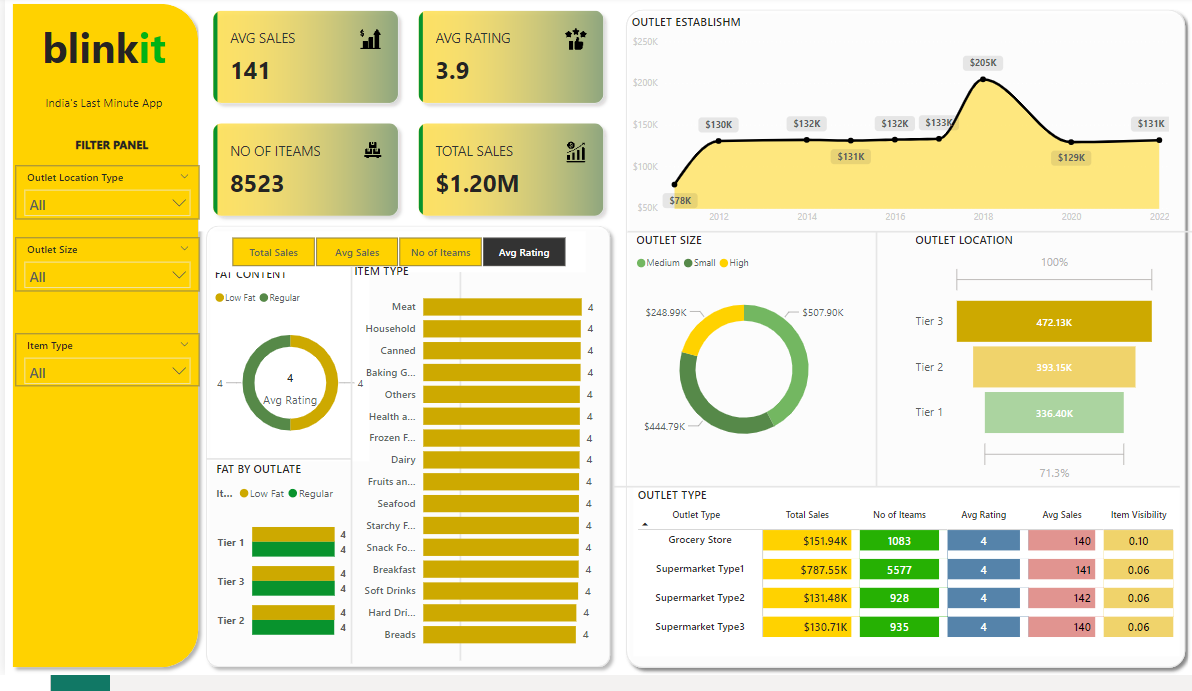

Layout of this report page (visuals, bound fields, positions):
{"tool":"powerbi","page":{"name":"Page 1","canvas":[1400,800],"ordinal":0},"visuals":[{"type":"shape","box":[0,0,236.7,800],"z":0},{"type":"textbox","box":[31.8,21.2,169.7,90.1],"z":1000},{"type":"textbox","box":[31.8,111.3,169.7,49.5],"z":2000},{"type":"cardVisual","fields":{"Data":["BlinkIT Grocery Data.Avg Sales","BlinkIT Grocery Data.Avg Rating","BlinkIT Grocery Data.No of Iteams","BlinkIT Grocery Data.Total Sales"]},"box":[228,0,494.9,277.5],"z":3000},{"type":"shape","box":[228,262,494,538],"z":4000},{"type":"donutChart","title":"FAT CONTENT","fields":{"Y":["BlinkIT Grocery Data.Avg Rating"],"Category":["BlinkIT Grocery Data.Item Fat Content"]},"box":[242.1,318.1,187.3,229.8],"z":5000},{"type":"slicer","fields":{"Values":["Metrics.Metrics"]},"box":[242.1,277.5,441.8,47.7],"z":6000},{"type":"card","fields":{"Values":["BlinkIT Grocery Data.Avg Rating"]},"box":[249.2,399.4,173.2,121.9],"z":7000},{"type":"clusteredBarChart","title":"FAT BY OUTLATE","fields":{"Y":["BlinkIT Grocery Data.Avg Rating"],"Category":["BlinkIT Grocery Data.Outlet Location Type"],"Series":["BlinkIT Grocery Data.Item Fat Content"]},"box":[243.9,547.9,162.6,229.8],"z":8000},{"type":"shape","box":[236.7,534.2,170.8,23.3],"z":9000},{"type":"shape","box":[447.8,325.6,178.9,457.8],"z":10000},{"type":"barChart","title":"ITEM TYPE","fields":{"Y":["BlinkIT Grocery Data.Avg Rating"],"Category":["BlinkIT Grocery Data.Item Type"]},"box":[406.7,315,291.7,463.3],"z":11000},{"type":"shape","box":[723.3,6.7,676.7,793.3],"z":12000},{"type":"shape","box":[723.3,6.7,676.7,793.3],"z":13000},{"type":"lineChart","title":"OUTLET ESTABLISHM","fields":{"Category":["BlinkIT Grocery Data.Outlet Establishment Year"],"Y":["BlinkIT Grocery Data.Total Sales"]},"box":[733.4,21.2,643.3,256.3],"z":14000},{"type":"shape","box":[188.3,318.3,438.3,468.3],"z":15000},{"type":"donutChart","title":"OUTLET SIZE","fields":{"Y":["BlinkIT Grocery Data.Total Sales"],"Category":["BlinkIT Grocery Data.Outlet Size"]},"box":[738.8,277.5,263.3,279.2],"z":16000},{"type":"funnel","title":"OUTLET LOCATION","fields":{"Y":["Sum(BlinkIT Grocery Data.Sales)"],"Category":["BlinkIT Grocery Data.Outlet Location Type"]},"box":[1067.5,277.5,293.4,300.4],"z":17000},{"type":"pivotTable","title":"OUTLET TYPE","fields":{"Rows":["BlinkIT Grocery Data.Outlet Type"],"Values":["BlinkIT Grocery Data.Total Sales","BlinkIT Grocery Data.No of Iteams","BlinkIT Grocery Data.Avg Rating","BlinkIT Grocery Data.Avg Sales","Avg(BlinkIT Grocery Data.Item Visibility)"]},"box":[740.5,577.9,643.3,199.7],"z":18000},{"type":"slicer","fields":{"Values":["BlinkIT Grocery Data.Outlet Location Type"]},"box":[11.7,200,216.7,63.3],"z":19000},{"type":"slicer","fields":{"Values":["BlinkIT Grocery Data.Outlet Size"]},"box":[11.7,285,216.7,63.3],"z":20000},{"type":"slicer","fields":{"Values":["BlinkIT Grocery Data.Item Type"]},"box":[11.7,398.3,216.7,61.7],"z":21000},{"type":"textbox","box":[41.4,161.4,170,54.3],"z":21001},{"type":"shape","box":[808.3,278.3,438.3,300],"z":21002},{"type":"shape","box":[716.7,566.7,666.7,21.7],"z":21003},{"type":"shape","box":[733.3,266.7,666.7,21.7],"z":21004}]}

Visuals, with their boxes in screenshot pixels (x1, y1, x2, y2), scaled from the page's 1400x800 canvas onto the 1192x691 screenshot:
shape: BBox(0, 0, 202, 690)
textbox: BBox(27, 18, 172, 96)
textbox: BBox(27, 96, 172, 139)
cardVisual - BlinkIT Grocery Data.Avg Sales x BlinkIT Grocery Data.Avg Rating: BBox(194, 0, 615, 240)
shape: BBox(194, 226, 615, 690)
"FAT CONTENT" donutChart: BBox(206, 275, 366, 473)
slicer - Metrics.Metrics: BBox(206, 240, 582, 281)
card - BlinkIT Grocery Data.Avg Rating: BBox(212, 345, 360, 450)
"FAT BY OUTLATE" clusteredBarChart: BBox(208, 473, 346, 672)
shape: BBox(202, 461, 347, 482)
shape: BBox(381, 281, 534, 677)
"ITEM TYPE" barChart: BBox(346, 272, 595, 672)
shape: BBox(616, 6, 1191, 690)
shape: BBox(616, 6, 1191, 690)
"OUTLET ESTABLISHM" lineChart: BBox(624, 18, 1172, 240)
shape: BBox(160, 275, 534, 679)
"OUTLET SIZE" donutChart: BBox(629, 240, 853, 481)
"OUTLET LOCATION" funnel: BBox(909, 240, 1159, 499)
"OUTLET TYPE" pivotTable: BBox(630, 499, 1178, 672)
slicer - BlinkIT Grocery Data.Outlet Location Type: BBox(10, 173, 194, 227)
slicer - BlinkIT Grocery Data.Outlet Size: BBox(10, 246, 194, 301)
slicer - BlinkIT Grocery Data.Item Type: BBox(10, 344, 194, 397)
textbox: BBox(35, 139, 180, 186)
shape: BBox(688, 240, 1061, 500)
shape: BBox(610, 489, 1178, 508)
shape: BBox(624, 230, 1191, 249)
